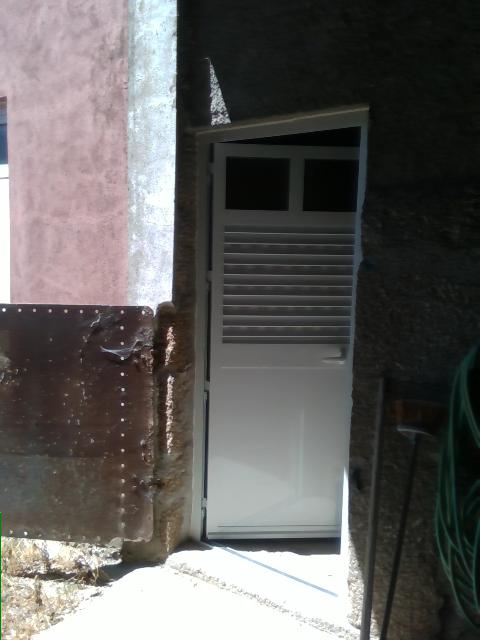semi_door: (192, 101, 368, 557)
